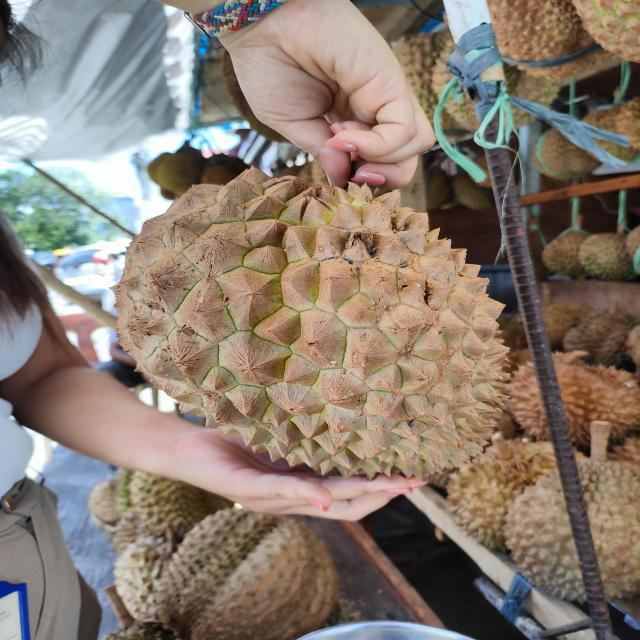mature: (107, 190, 517, 485)
